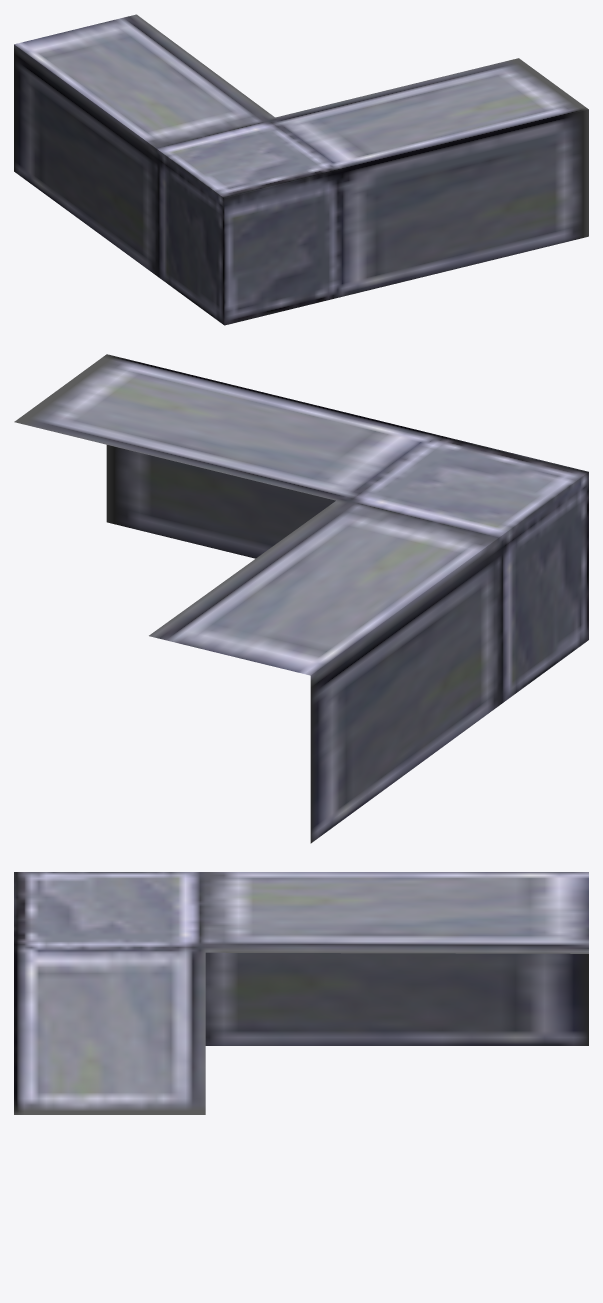
Rendered from Dungeon_plith_corner1.FBX.
The picture shows the model from 3 angles, top to bottom: view 1: azimuth 30°, elevation 25°; view 2: azimuth 150°, elevation 25°; view 3: azimuth 270°, elevation 25°; orthographic projection. The views are drawn at different scales.
Visible parts, largest first — view 1: wall_corner1; view 2: wall_corner1; view 3: wall_corner1.
Part boxes in pixels (<box>): wall_corner1: <box>14,14,588,325</box>; wall_corner1: <box>14,354,588,843</box>; wall_corner1: <box>14,872,588,1114</box>.
Bounding box in the file's own units: 75 × 25 × 75.
Materials: 1 (1 with a texture image).
